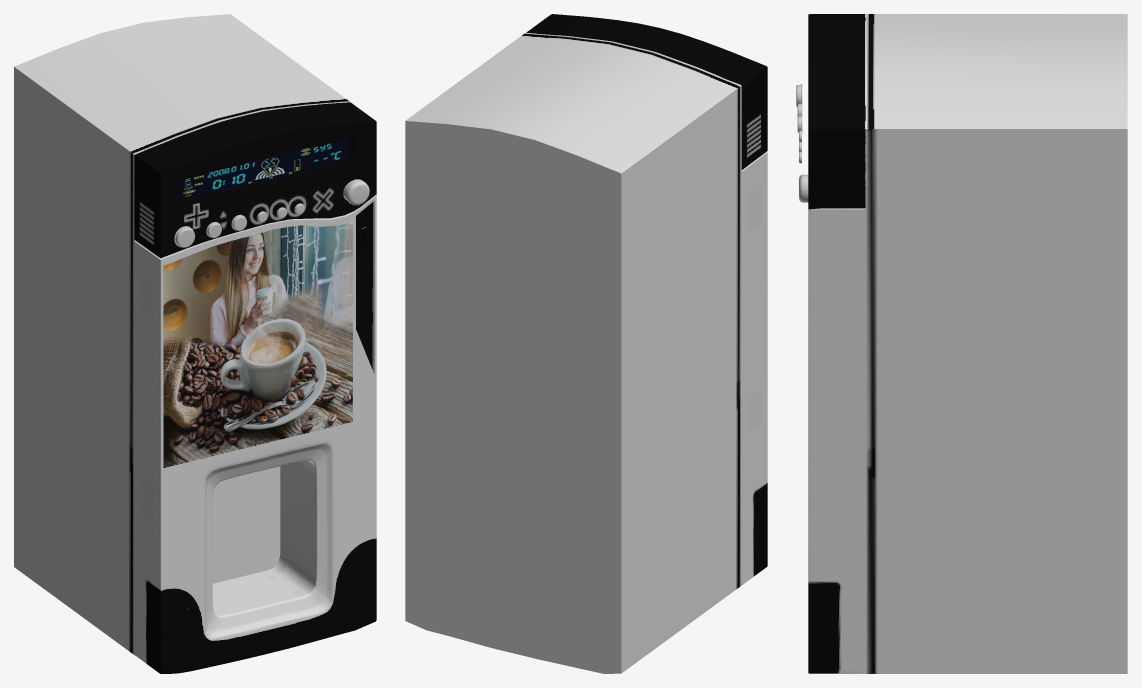
The picture shows the model from 3 angles, left to right: view 1: azimuth 30°, elevation 25°; view 2: azimuth 150°, elevation 25°; view 3: azimuth 270°, elevation 25°; orthographic projection. The views are drawn at different scales.
Parts seen in each view (by area): view 1: Coffee_Machine; view 2: Coffee_Machine; view 3: Coffee_Machine.
Boxes of the visible parts, x1=… form: Coffee_Machine: x1=14, y1=14, x2=376, y2=673; Coffee_Machine: x1=405, y1=14, x2=767, y2=673; Coffee_Machine: x1=796, y1=14, x2=1127, y2=673.
Bounding box in the file's own units: 3.04 × 6.98 × 3.71.
Materials: 1 (1 with a texture image).
